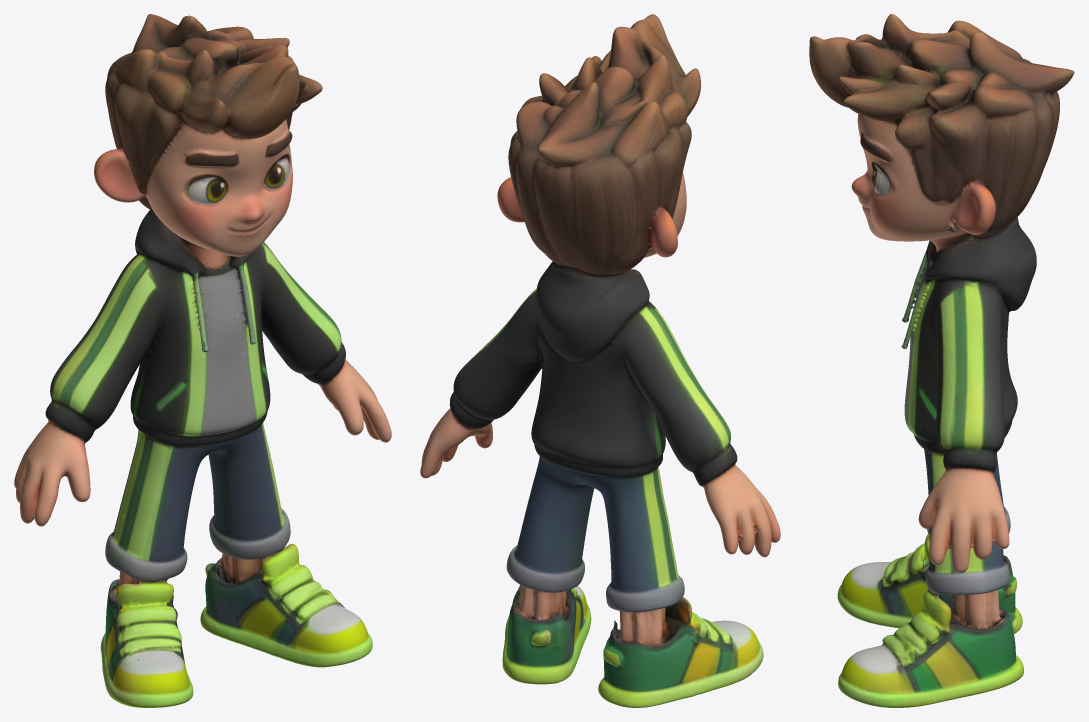
File: player_game.glb
The picture shows the model from 3 angles, left to right: view 1: azimuth 30°, elevation 25°; view 2: azimuth 150°, elevation 25°; view 3: azimuth 270°, elevation 25°; orthographic projection. The views are drawn at different scales.
Size of the model in its own units: 1.19 by 2 by 0.7708.
Materials: 1 (1 with a texture image).
